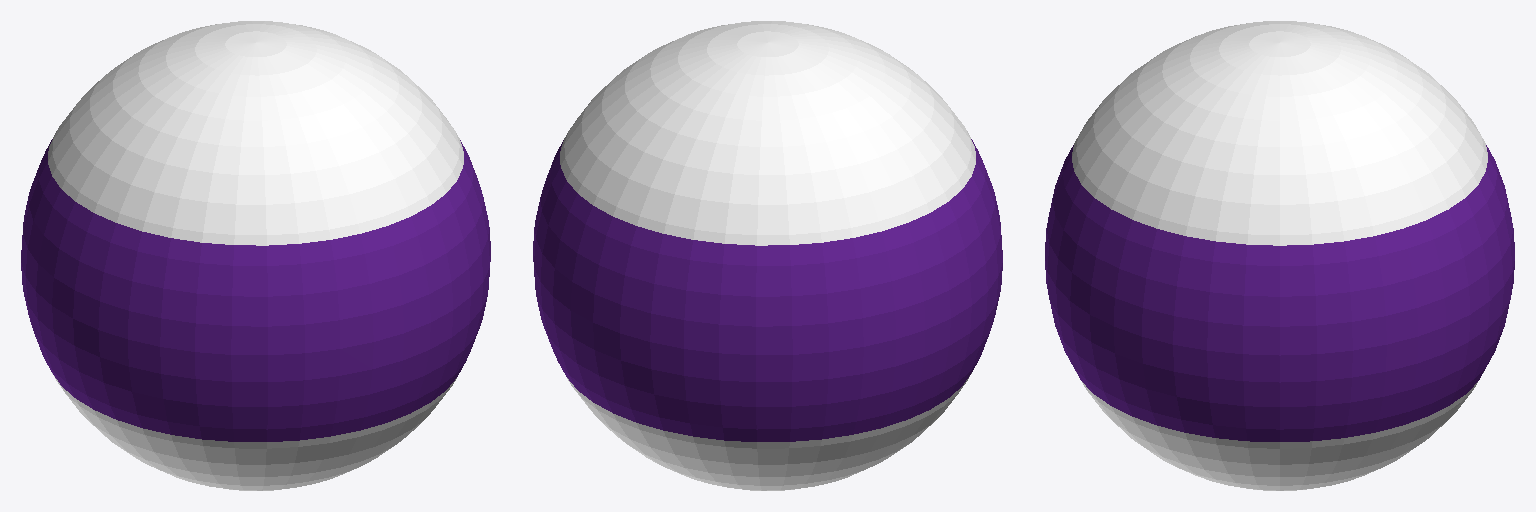
The picture shows the model from 3 angles: view 1: azimuth 30°, elevation 25°; view 2: azimuth 150°, elevation 25°; view 3: azimuth 270°, elevation 25°; orthographic projection.
Parts seen in each view (by area): view 1: 球_球.001; view 2: 球_球.001; view 3: 球_球.001.
Part boxes in pixels (x1,y1,x2,y2): 球_球.001: (21,21,490,490); 球_球.001: (533,21,1002,490); 球_球.001: (1045,21,1514,490).
Size of the model in its own units: 2 by 2 by 2.
1 materials, 1 textured.